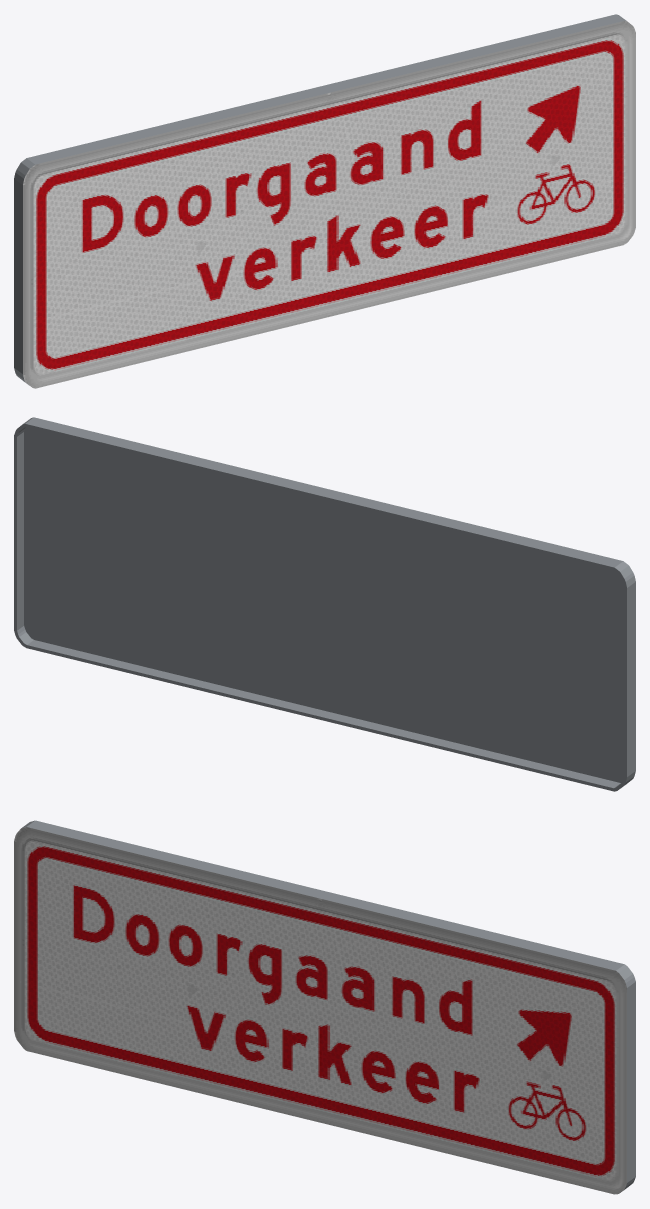
3 renders of one model, top to bottom at view 1: azimuth 30°, elevation 25°; view 2: azimuth 150°, elevation 25°; view 3: azimuth 330°, elevation 25°, orthographic.
Visible parts, largest first — view 1: cat_ee7ad50d08abac05; view 2: cat_ee7ad50d08abac05; view 3: cat_ee7ad50d08abac05.
Part boxes in pixels (<box>): cat_ee7ad50d08abac05: <box>14,14,635,388</box>; cat_ee7ad50d08abac05: <box>14,417,635,791</box>; cat_ee7ad50d08abac05: <box>14,820,635,1194</box>.
Size of the model in its own units: 0.6 by 0.015 by 0.2095.
2 materials, 1 textured.
